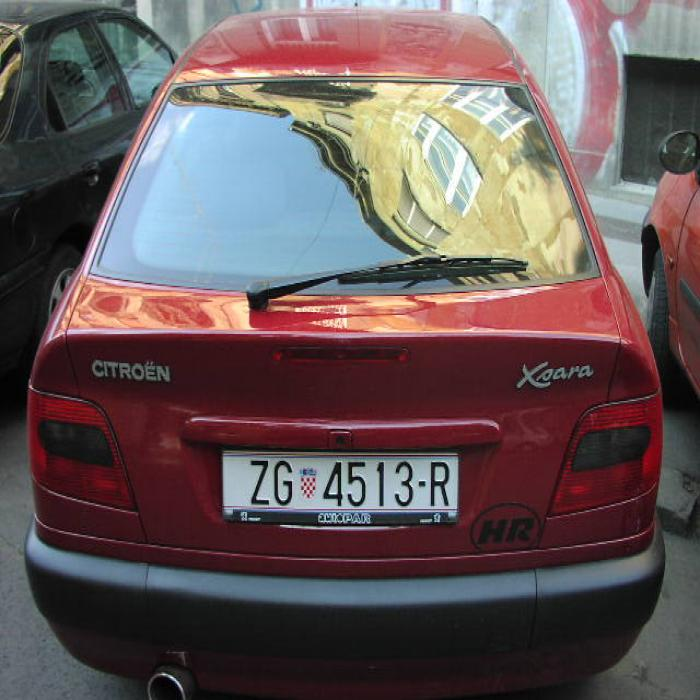number_plate: (222, 449, 456, 512)
